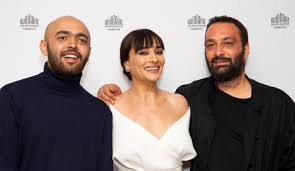middle_eastern_male: (45, 20, 87, 77)
